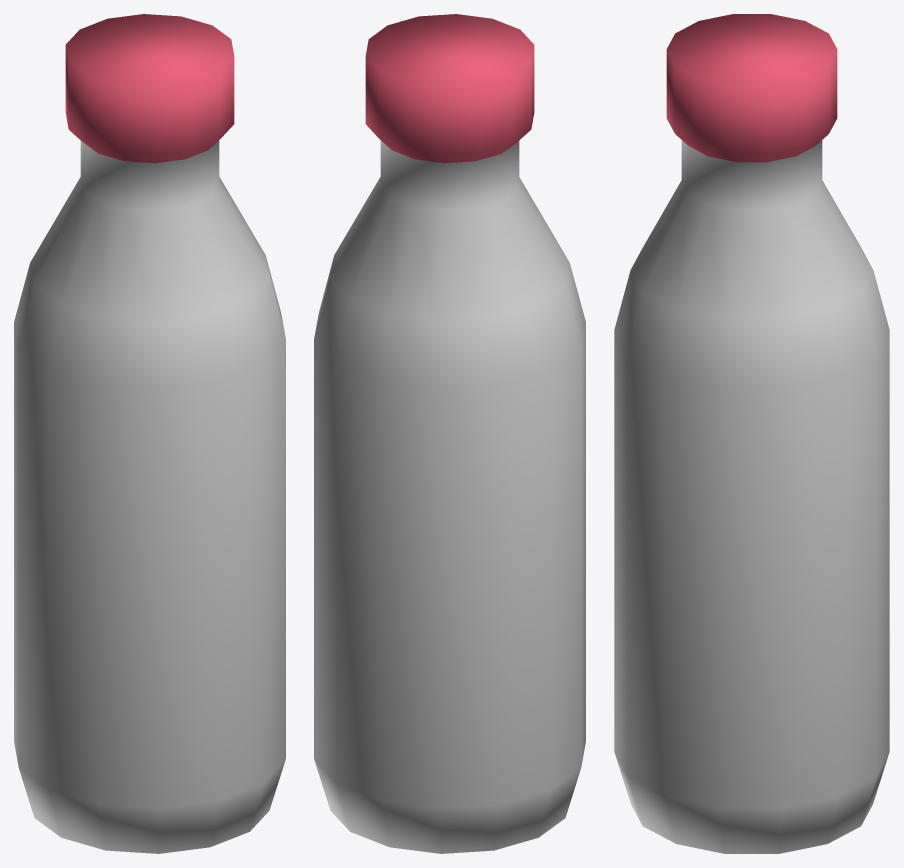
File: latte_bottiglia_soia.fbx
3 renders of one model, left to right at view 1: azimuth 30°, elevation 25°; view 2: azimuth 150°, elevation 25°; view 3: azimuth 270°, elevation 25°, orthographic.
Visible parts, largest first — view 1: latte_soia; view 2: latte_soia; view 3: latte_soia.
Part boxes in pixels (<box>): latte_soia: <box>14,14,285,853</box>; latte_soia: <box>314,14,585,853</box>; latte_soia: <box>614,14,889,853</box>.
Size of the model in its own units: 154 by 477 by 158.
